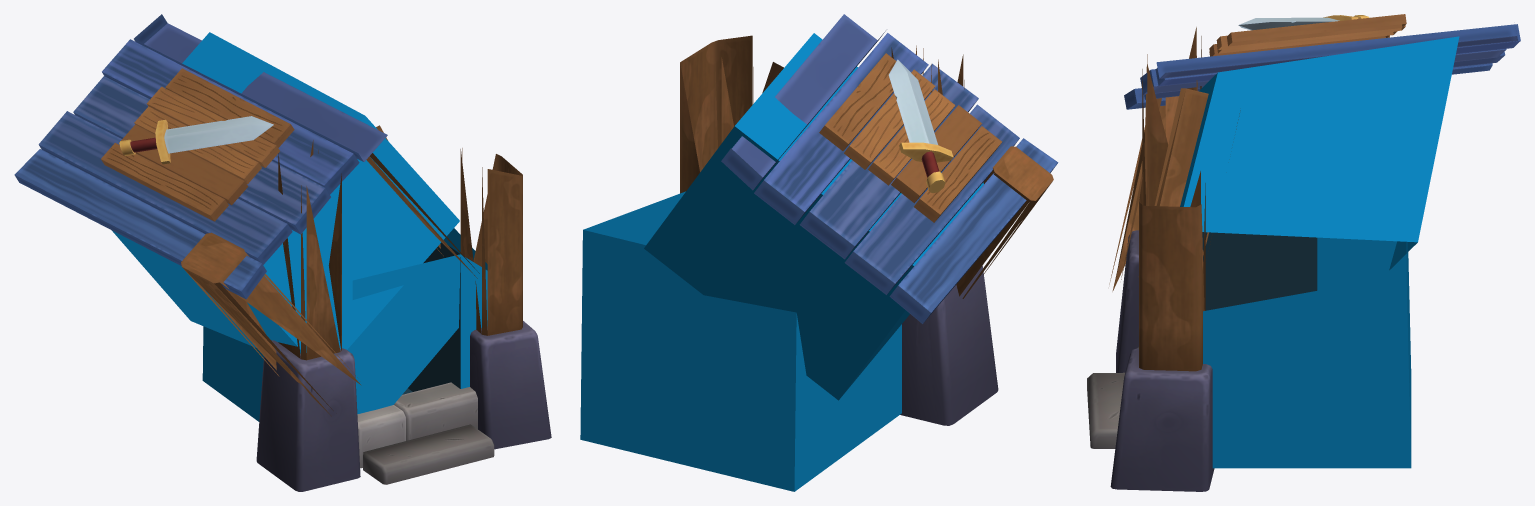
The model's file is Broken barracks.fbx.
The picture shows the model from 3 angles, left to right: view 1: azimuth 30°, elevation 25°; view 2: azimuth 150°, elevation 25°; view 3: azimuth 270°, elevation 25°; orthographic projection. The views are drawn at different scales.
Parts seen in each view (by area): view 1: Broken barracks; view 2: Broken barracks; view 3: Broken barracks.
Boxes of the visible parts, x1,y1,x2,y2 form: Broken barracks: [14, 14, 551, 491]; Broken barracks: [580, 14, 1058, 491]; Broken barracks: [1087, 14, 1520, 491].
Bounding box in the file's own units: 197 × 171 × 186.
Materials: 3 (1 with a texture image).
